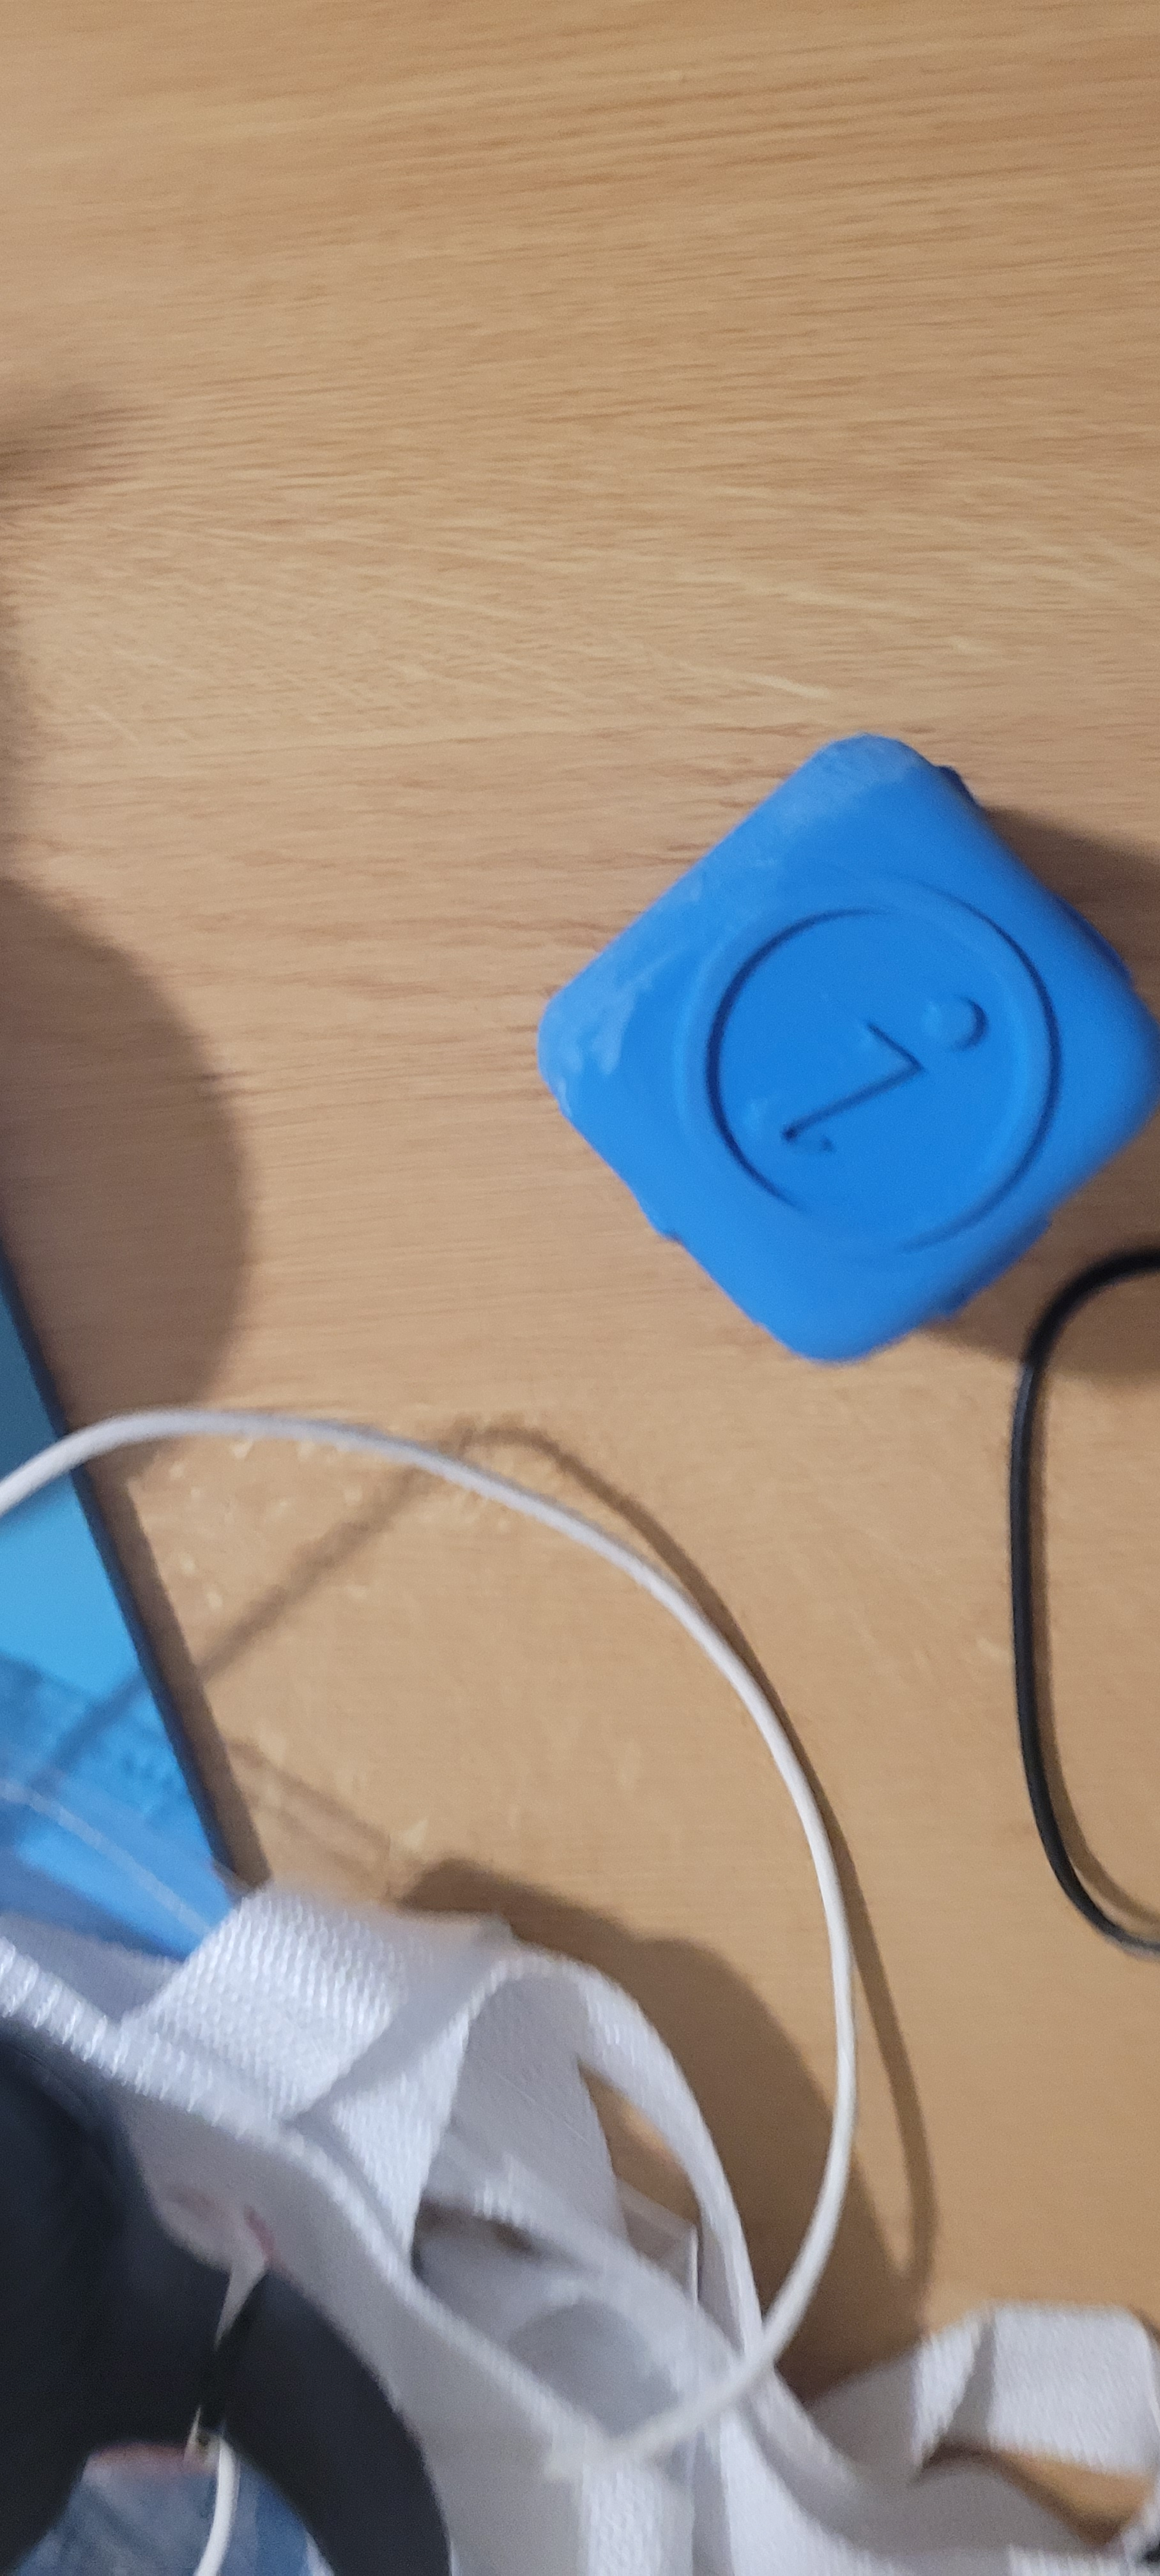Info: (572, 818, 1158, 1298)
